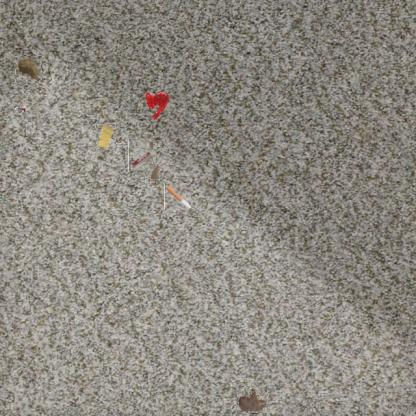dirty: (127, 141, 155, 170), (164, 183, 192, 210), (16, 55, 42, 83), (96, 124, 116, 150), (13, 102, 31, 124), (144, 162, 160, 184)
liquid: (237, 386, 267, 414), (144, 90, 170, 120)
